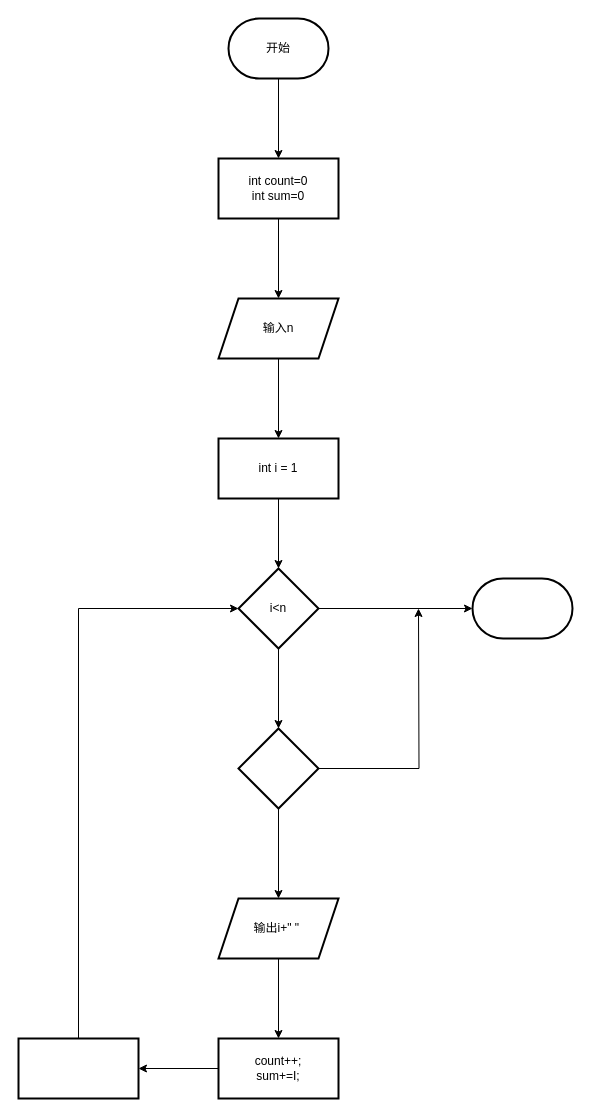
Some shapes in this 590 by 1116 pixel diagram are drawn without their labels. The shapes that lost their labels are listed below. From the top down, each one's box as (x1, y1, x2, y2) in pixels, then its label:
(471, 577, 573, 639): 结束
(237, 727, 319, 809): i%7==0
(17, 1037, 139, 1099): i++
